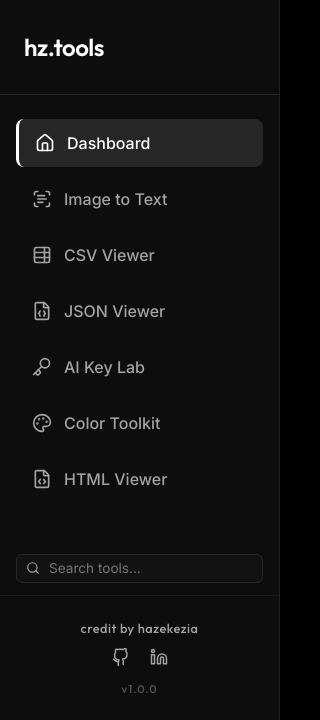
Test: Sidebar Component › clears search query and restores all items when clear button is clicked
# Search for "csv"
Type "csv" into the field with placeholder "Search tools...". click: [140, 568]
box: [16, 554, 263, 583]
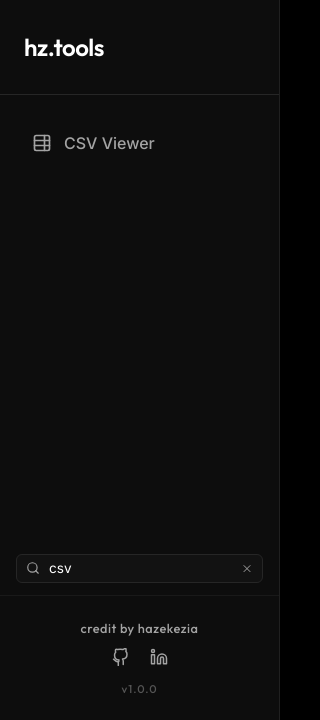
Expected: the link "Dashboard" is gone
Expected: the button titled "Clear Search" is shown
# Click it
Click the button titled "Clear Search". click: [247, 568]
box: [238, 560, 255, 577]
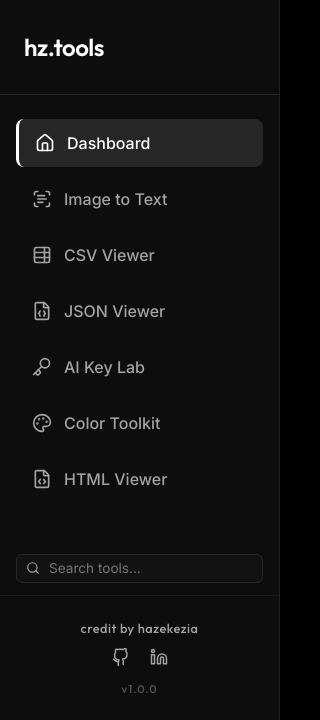
Expected: the field with placeholder "Search tools..." is empty, [16, 554, 263, 583]
Expected: the text "Dashboard" is shown, [67, 133, 150, 153]
Expected: the text "JSON Viewer" is shown, [64, 301, 165, 321]
